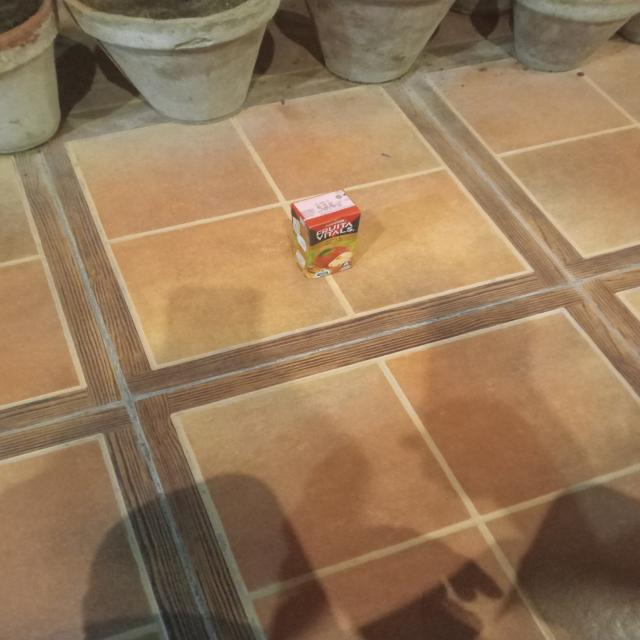Plastic: (286, 191, 366, 274)
